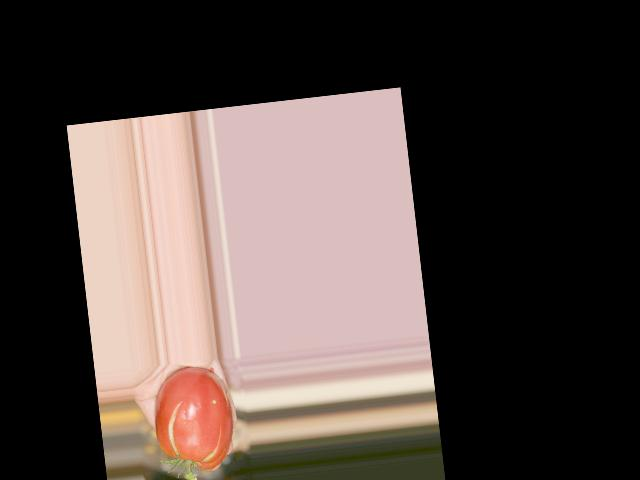tomato: (150, 363, 238, 475)
